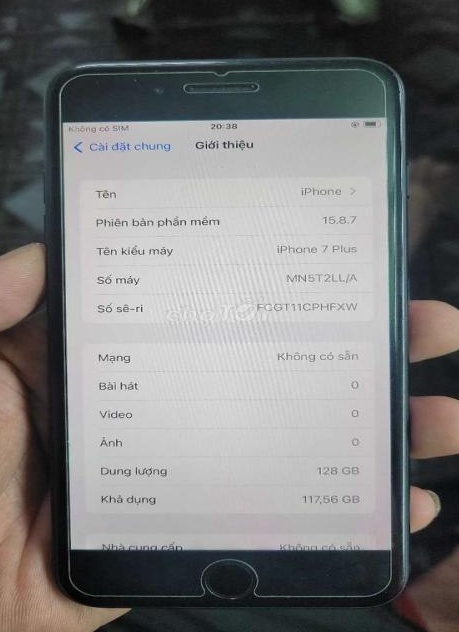scratch: (390, 77, 408, 264), (69, 56, 236, 69)
